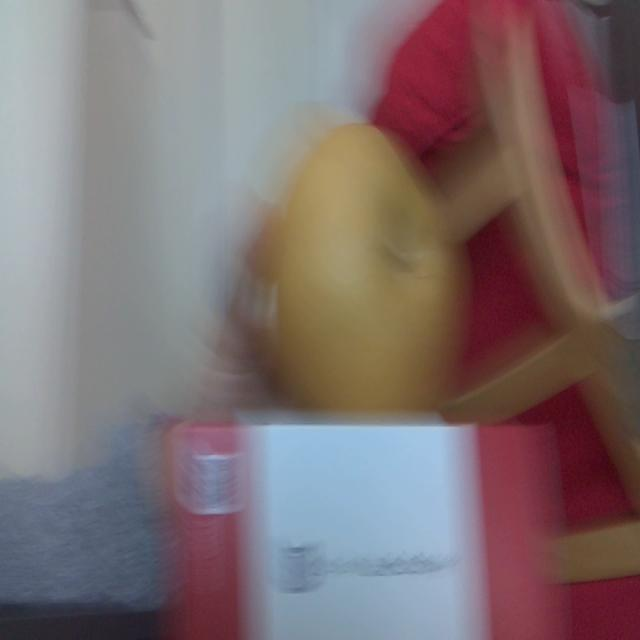pear: (260, 121, 460, 424)
